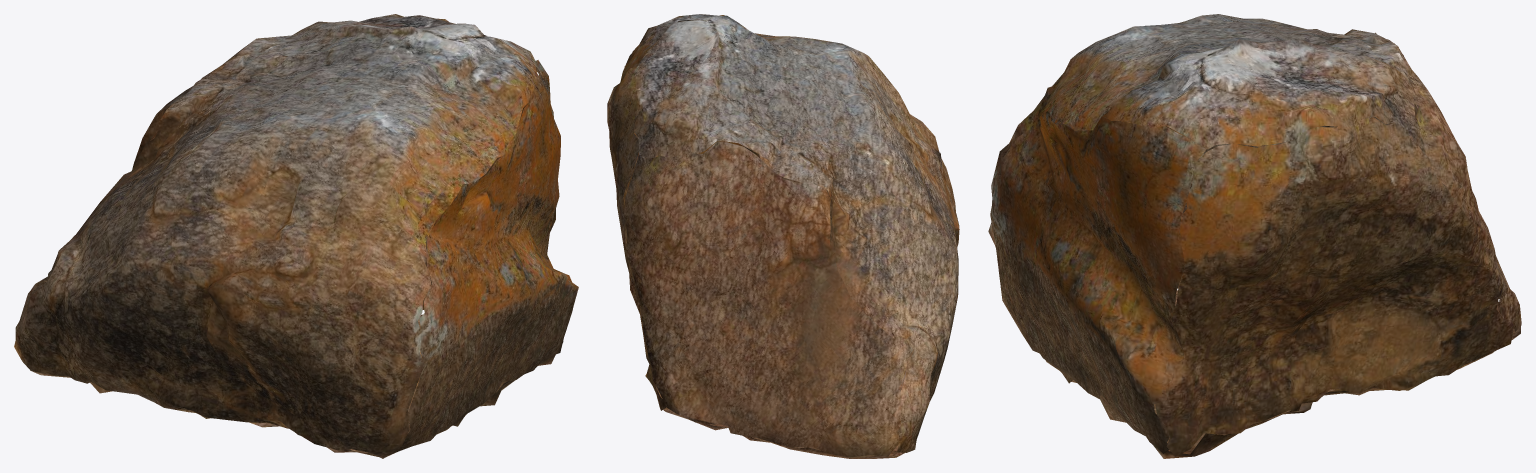
The model's file is namaqualand_boulder_04.glb.
The picture shows the model from 3 angles, left to right: view 1: azimuth 30°, elevation 25°; view 2: azimuth 150°, elevation 25°; view 3: azimuth 270°, elevation 25°; orthographic projection. The views are drawn at different scales.
Visible parts, largest first — view 1: lod0; view 2: lod0; view 3: lod0.
Part boxes in pixels (bbox=[...]): lod0: bbox=[14, 14, 578, 458]; lod0: bbox=[607, 14, 959, 458]; lod0: bbox=[988, 14, 1521, 458].
Size of what is drawn, in the model's own units: 2.52 by 1.9 by 2.49.
Materials: 1 (1 with a texture image).
